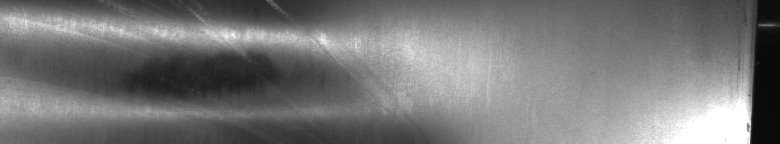ke: (28, 4, 329, 118)
